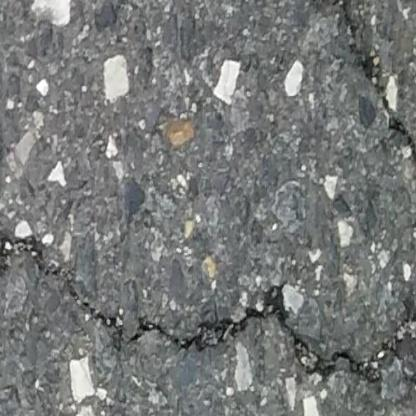Cracks: (0, 232, 416, 395), (304, 0, 416, 185)
